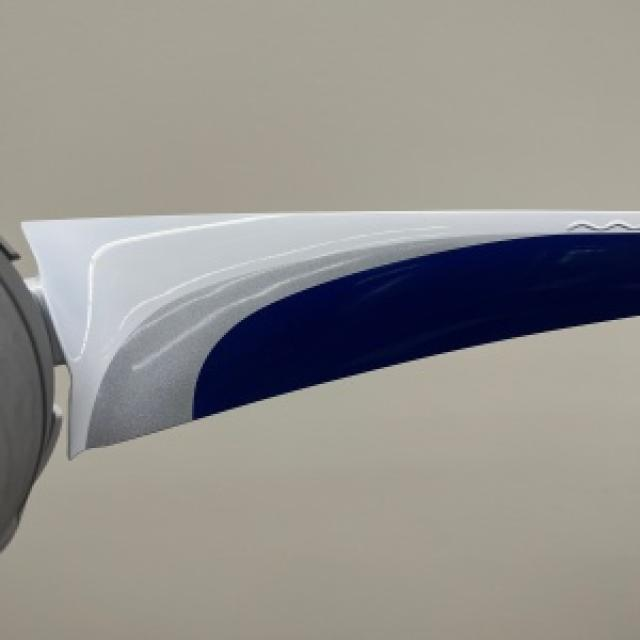healthy: (0, 211, 638, 544)
